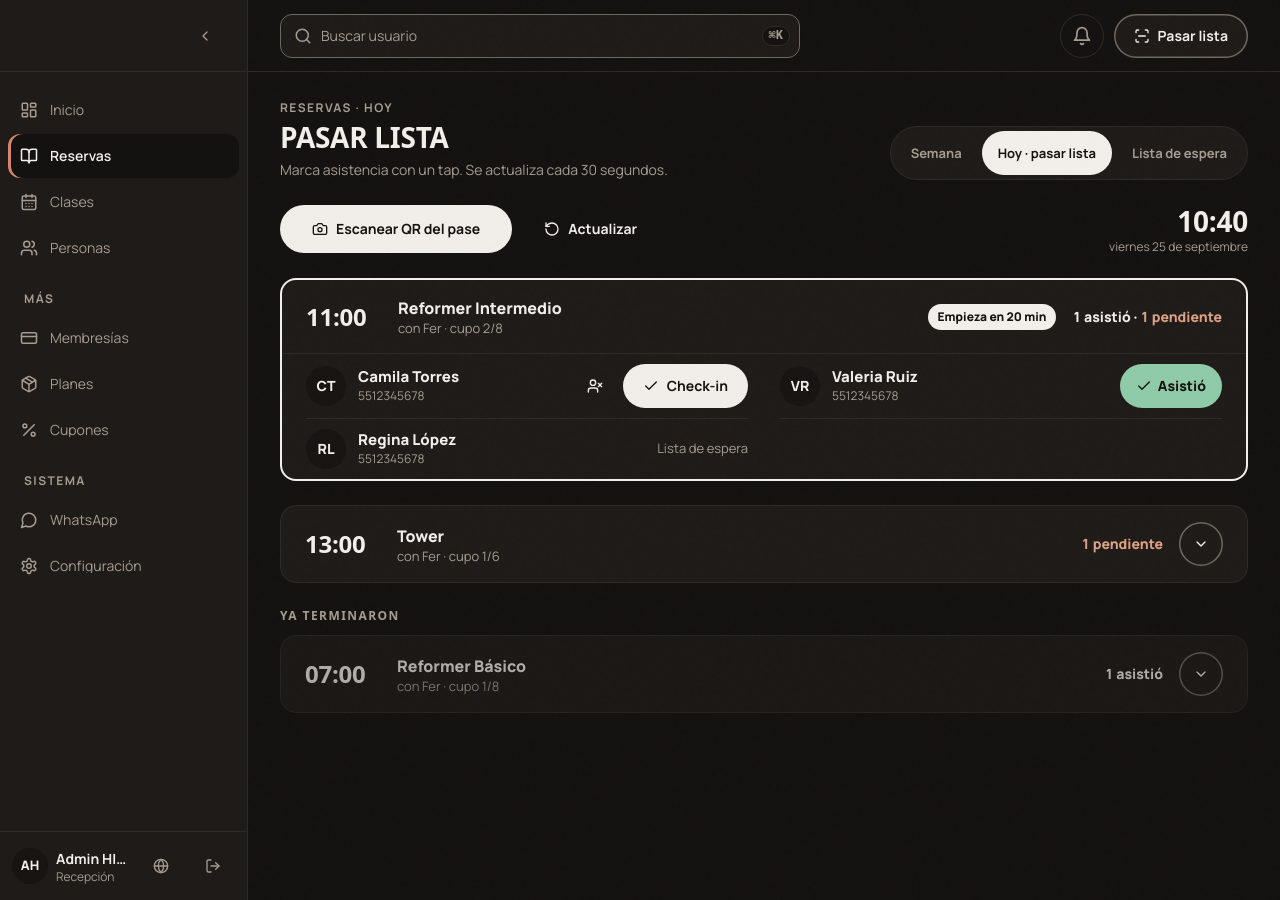
Test: Pasar lista › el diálogo de falta dice que se puede corregir hoy mismo
Click the button named "Marcar falta de Camila Torres": (595, 386) [573, 364, 617, 408]
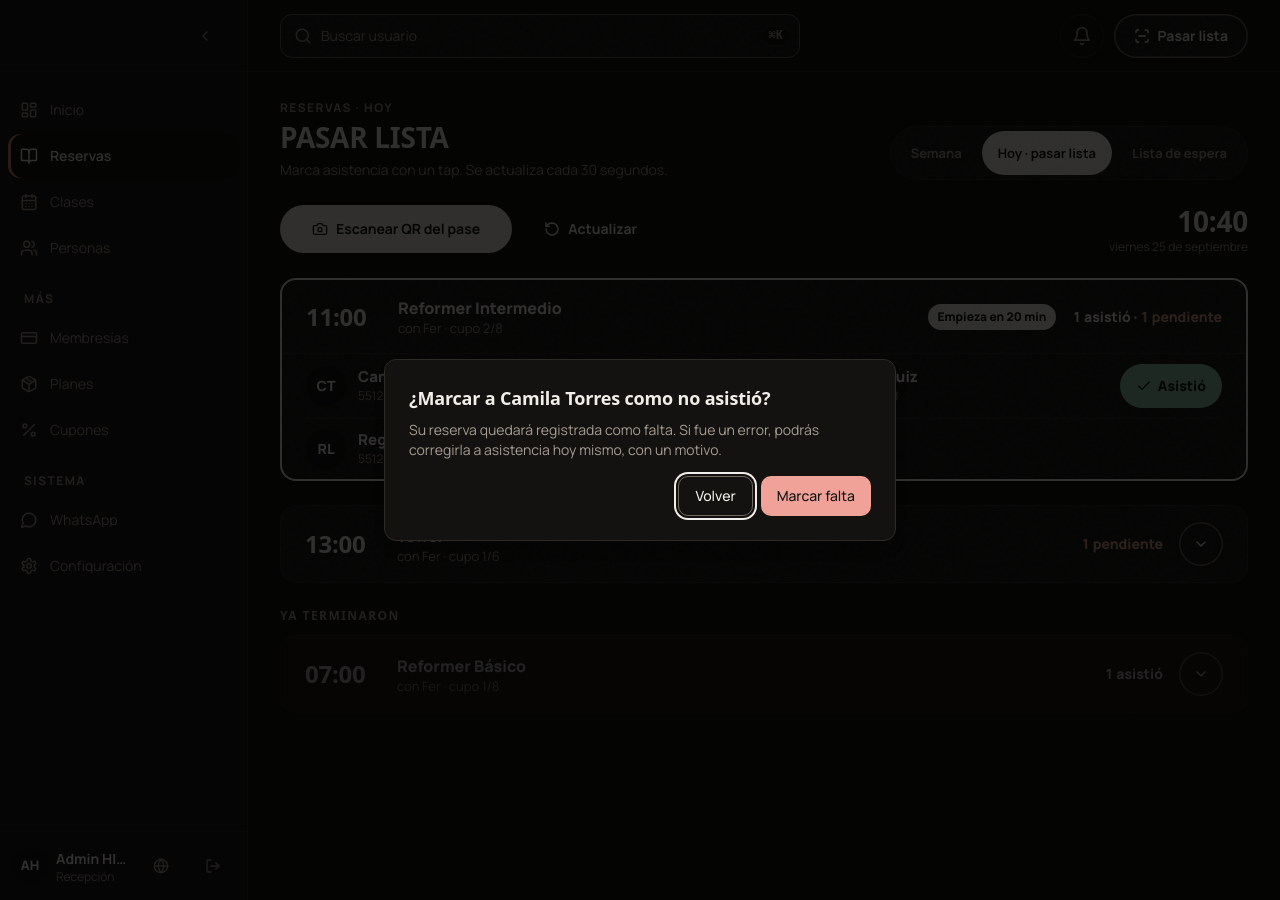
Result: the text "Su reserva quedará registrada como falta. Si fue un error, podrás corregirla a asistencia hoy mismo, con un motivo." is shown at [409, 420, 819, 459]
